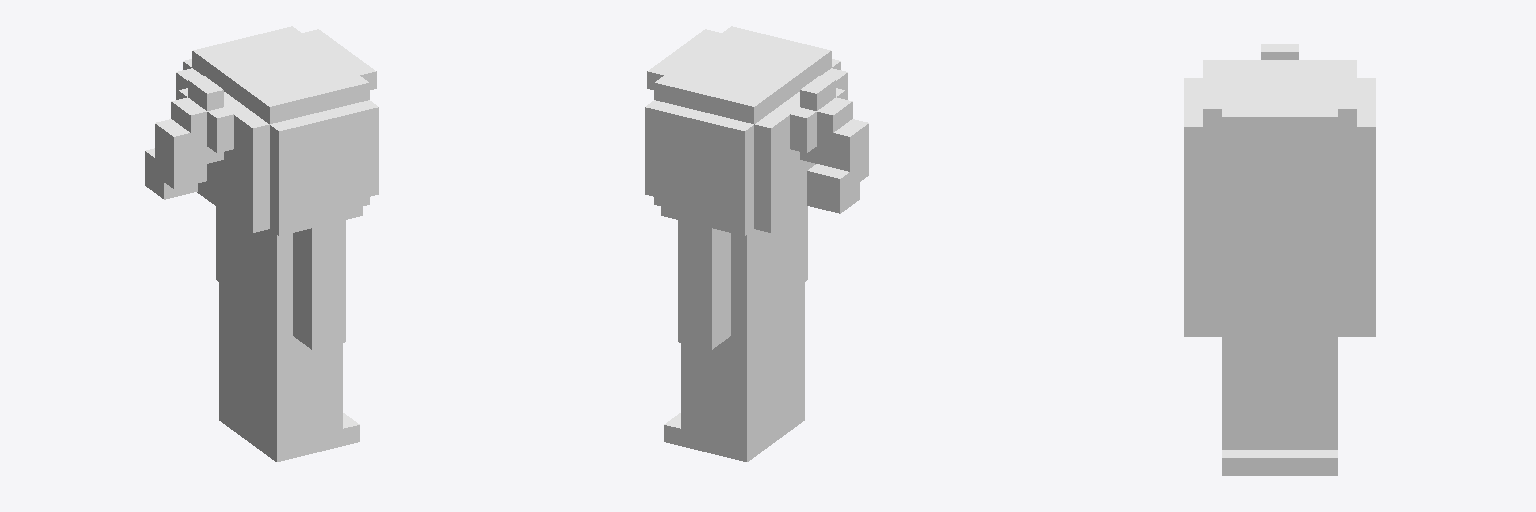
File: Mother.obj
The picture shows the model from 3 angles: view 1: azimuth 30°, elevation 25°; view 2: azimuth 150°, elevation 25°; view 3: azimuth 270°, elevation 25°; orthographic projection.
Size of the model in its own units: 11 by 21 by 10.